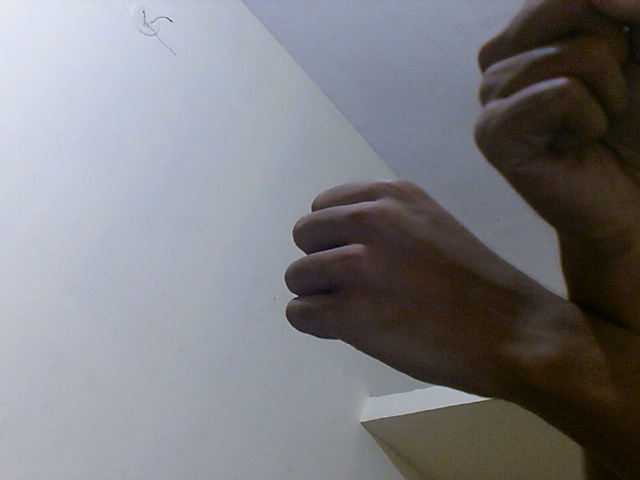hand: (281, 178, 567, 411), (470, 1, 640, 272)
